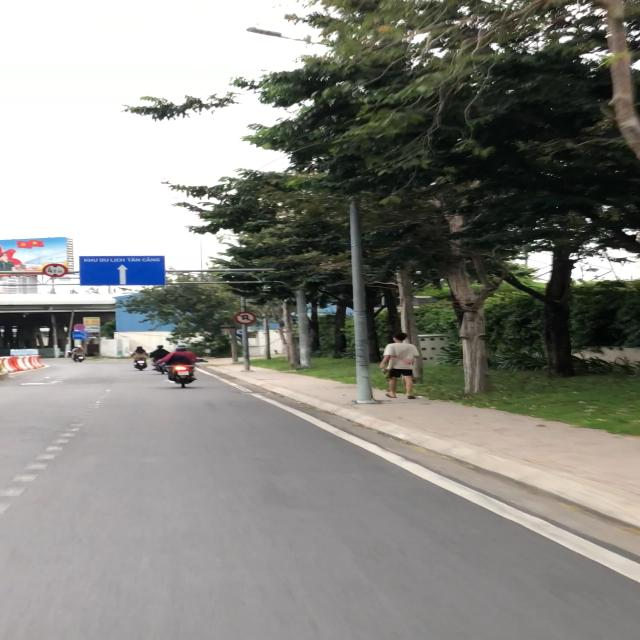Bien bao cam quay dau xe: (233, 310, 257, 324)
Bien bao han che chieu cao: (42, 262, 70, 279)
